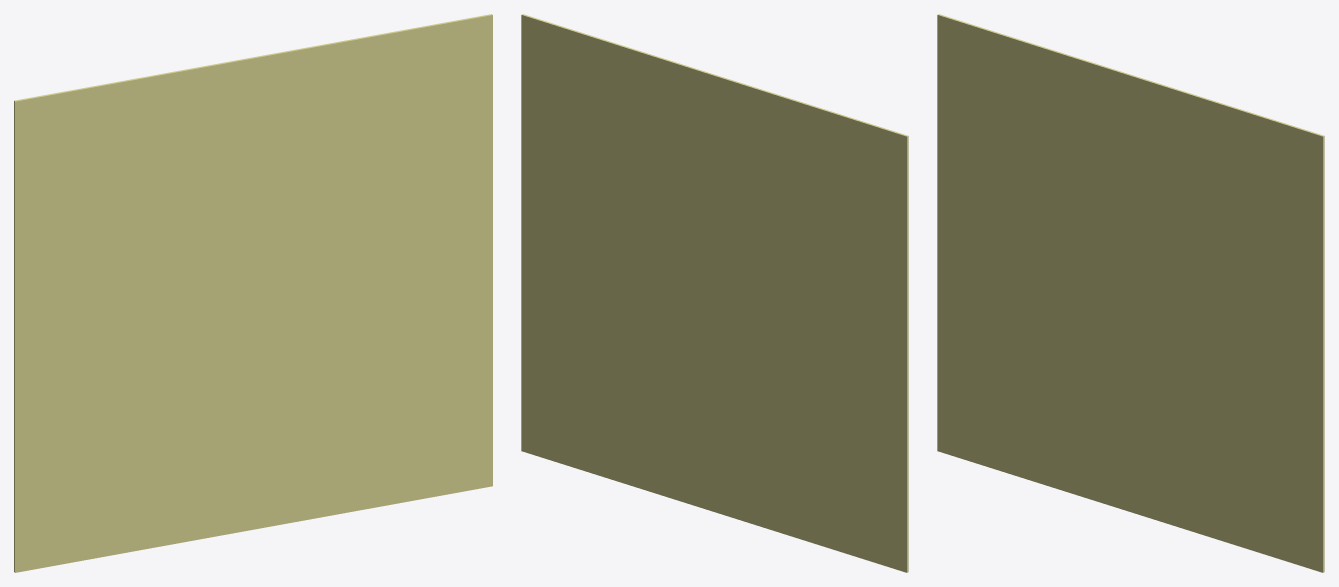
3 views of the same model, side by side, from view 1: azimuth 30°, elevation 25°; view 2: azimuth 150°, elevation 25°; view 3: azimuth 330°, elevation 25° (orthographic). The views are drawn at different scales.
Visible parts, largest first — view 1: Площина.003; view 2: Площина.003; view 3: Площина.003.
Boxes of the visible parts, x1=… form: Площина.003: x1=14, y1=14, x2=492, y2=572; Площина.003: x1=521, y1=14, x2=908, y2=572; Площина.003: x1=937, y1=14, x2=1324, y2=572.
Size of the model in its own units: 0.5442 by 0.5477 by 0.0673.
